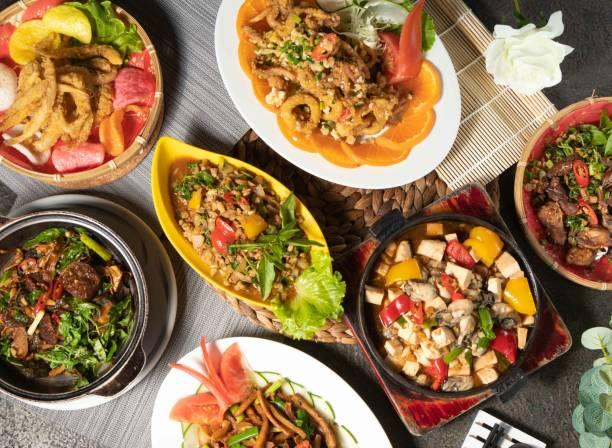Braised Crucian Carp: (212, 0, 456, 190), (159, 142, 351, 345), (2, 194, 179, 409), (356, 214, 539, 397), (1, 0, 164, 188), (151, 336, 395, 446), (515, 98, 610, 287)
